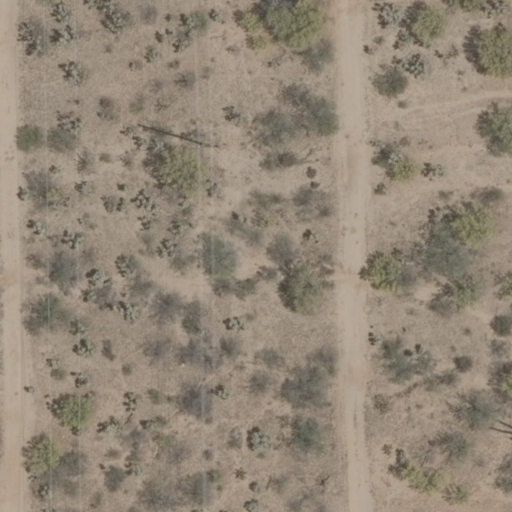DT: (188, 135, 233, 151)
